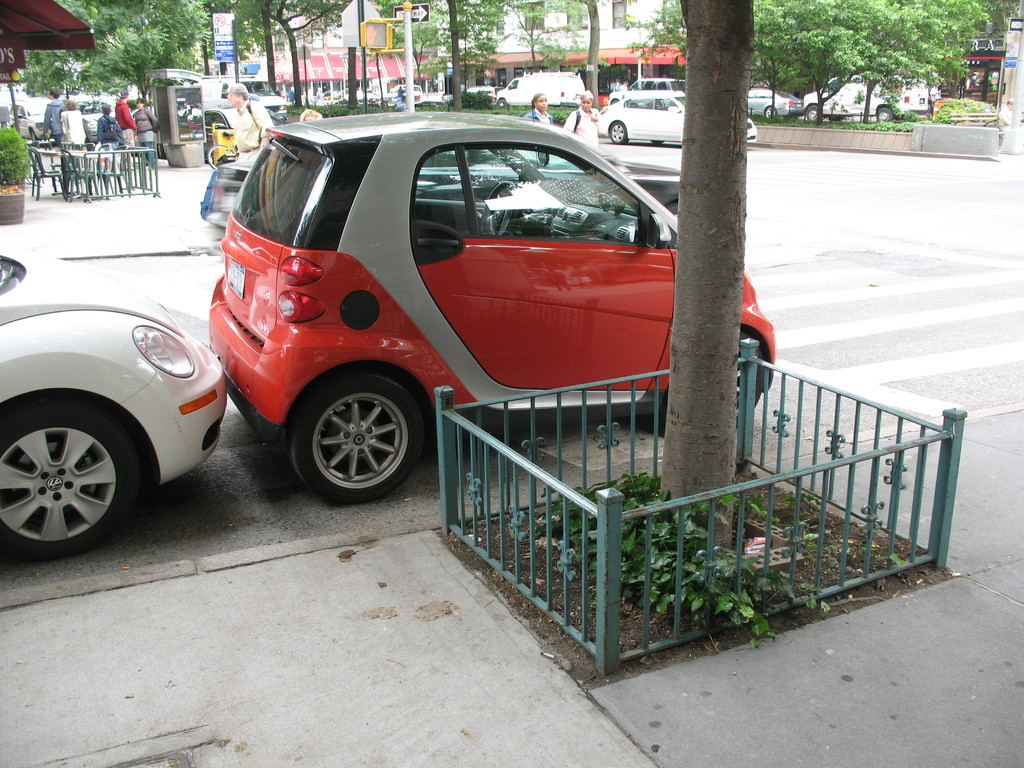cars: (178, 110, 707, 500), (0, 242, 234, 561), (600, 84, 753, 150), (746, 85, 798, 119)
